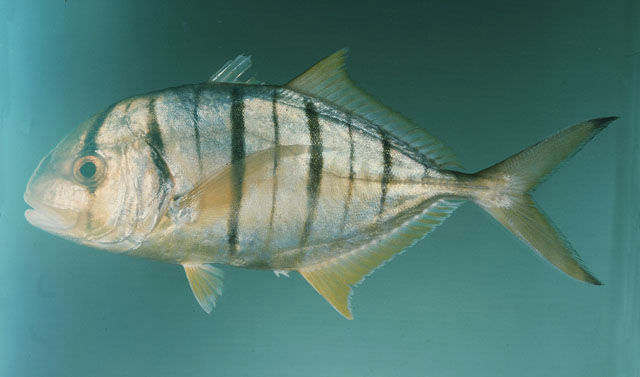fish: (22, 45, 621, 321)
